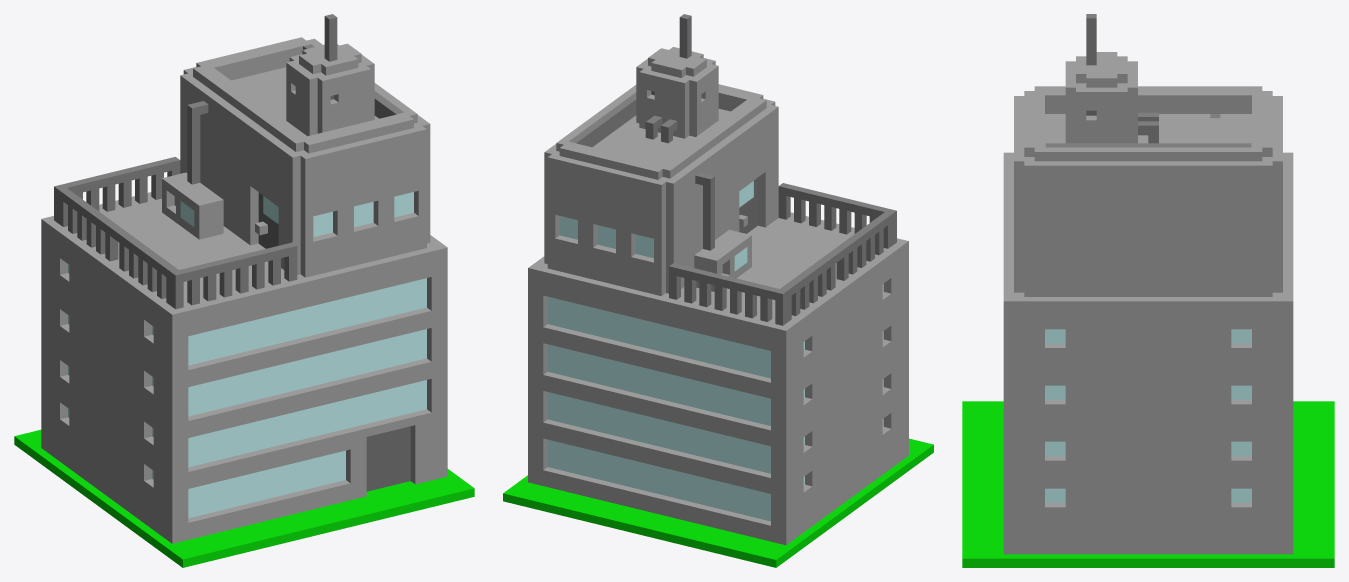
Rendered from building_01.fbx.
The picture shows the model from 3 angles, left to right: view 1: azimuth 30°, elevation 25°; view 2: azimuth 150°, elevation 25°; view 3: azimuth 270°, elevation 25°; orthographic projection. The views are drawn at different scales.
Visible parts, largest first — view 1: building_01; view 2: building_01; view 3: building_01.
Boxes of the visible parts, <box> form: building_01: <box>14,14,474,567</box>; building_01: <box>503,14,933,567</box>; building_01: <box>962,14,1334,567</box>.
Bounding box in the file's own units: 360 × 540 × 360.
1 material, 1 textured.
